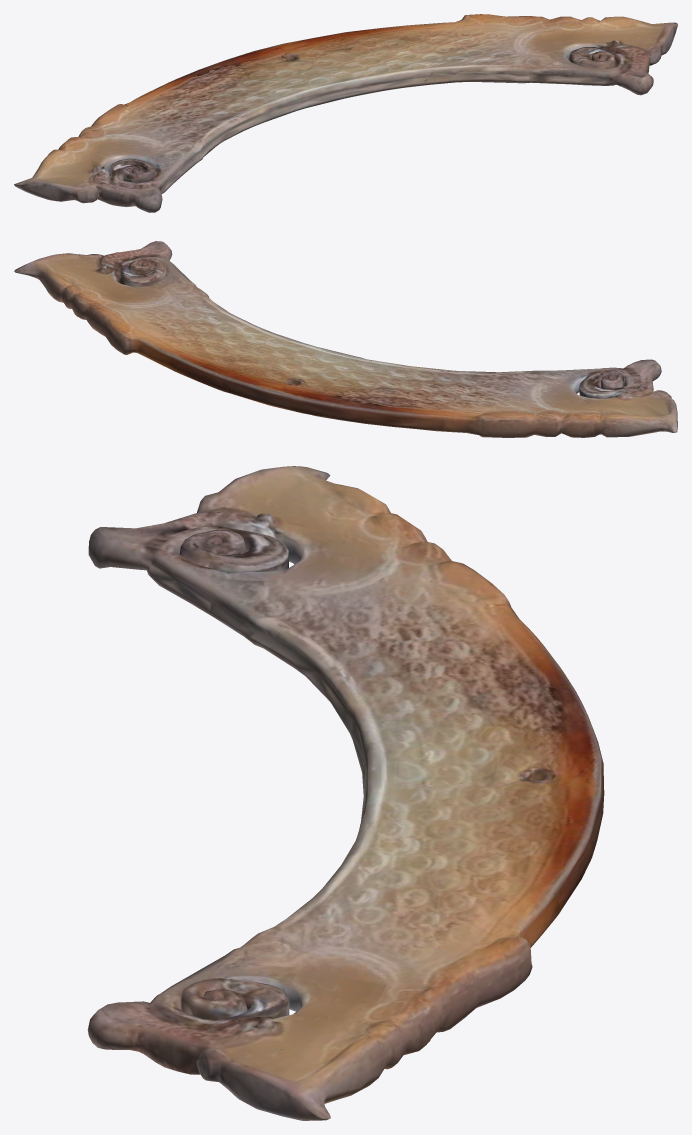
File: double-dragon-heng-overview.glb
3 renders of one model, top to bottom at view 1: azimuth 30°, elevation 25°; view 2: azimuth 150°, elevation 25°; view 3: azimuth 270°, elevation 25°, orthographic. The views are drawn at different scales.
Visible parts, largest first — view 1: node_0; view 2: node_0; view 3: node_0.
Part boxes in pixels (bbox=[...]): node_0: bbox=[14, 14, 677, 212]; node_0: bbox=[14, 241, 677, 437]; node_0: bbox=[87, 466, 604, 1120].
Bounding box in the file's own units: 1.2 × 0.042 × 0.4046.
1 material, 1 textured.
